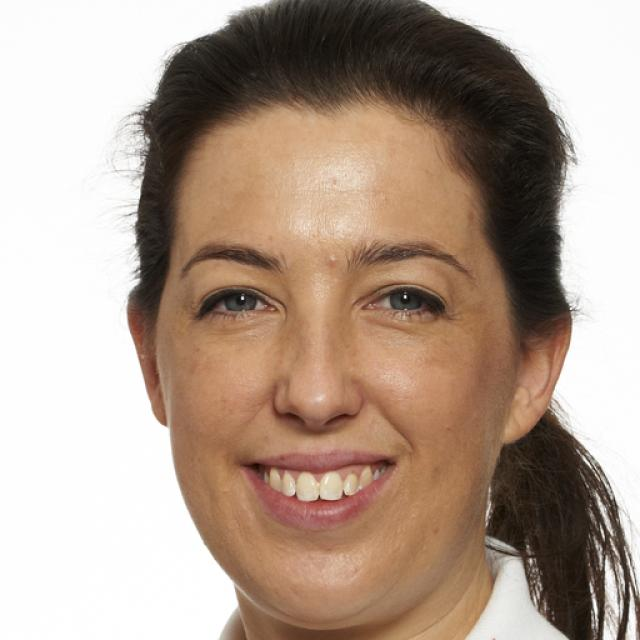Acne: (315, 247, 344, 276)
